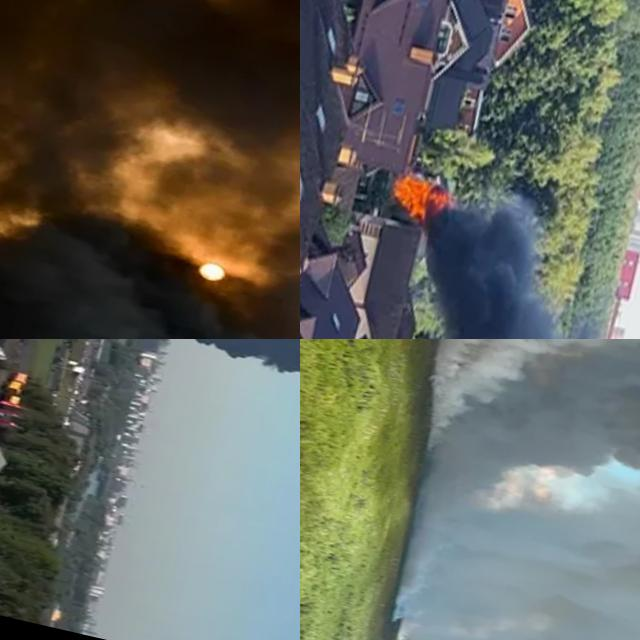smoke: (0, 0, 300, 301), (362, 339, 640, 640), (0, 173, 300, 339), (353, 182, 640, 339), (140, 339, 300, 535)
